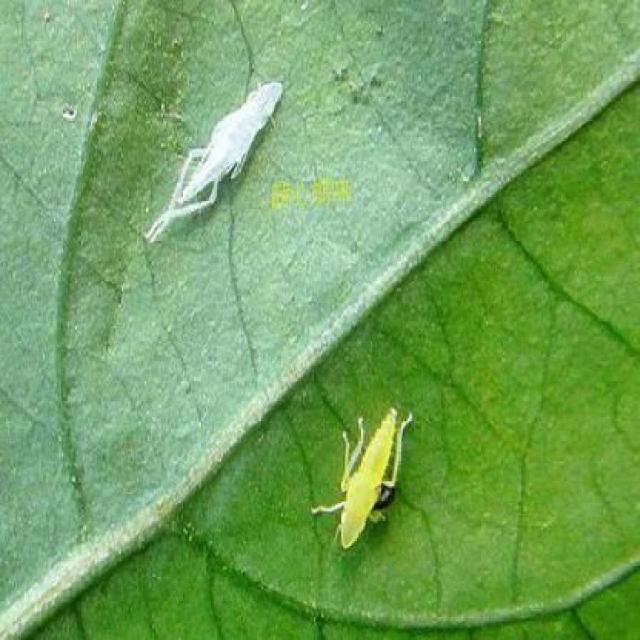green-leafhopper: (313, 406, 422, 552)
